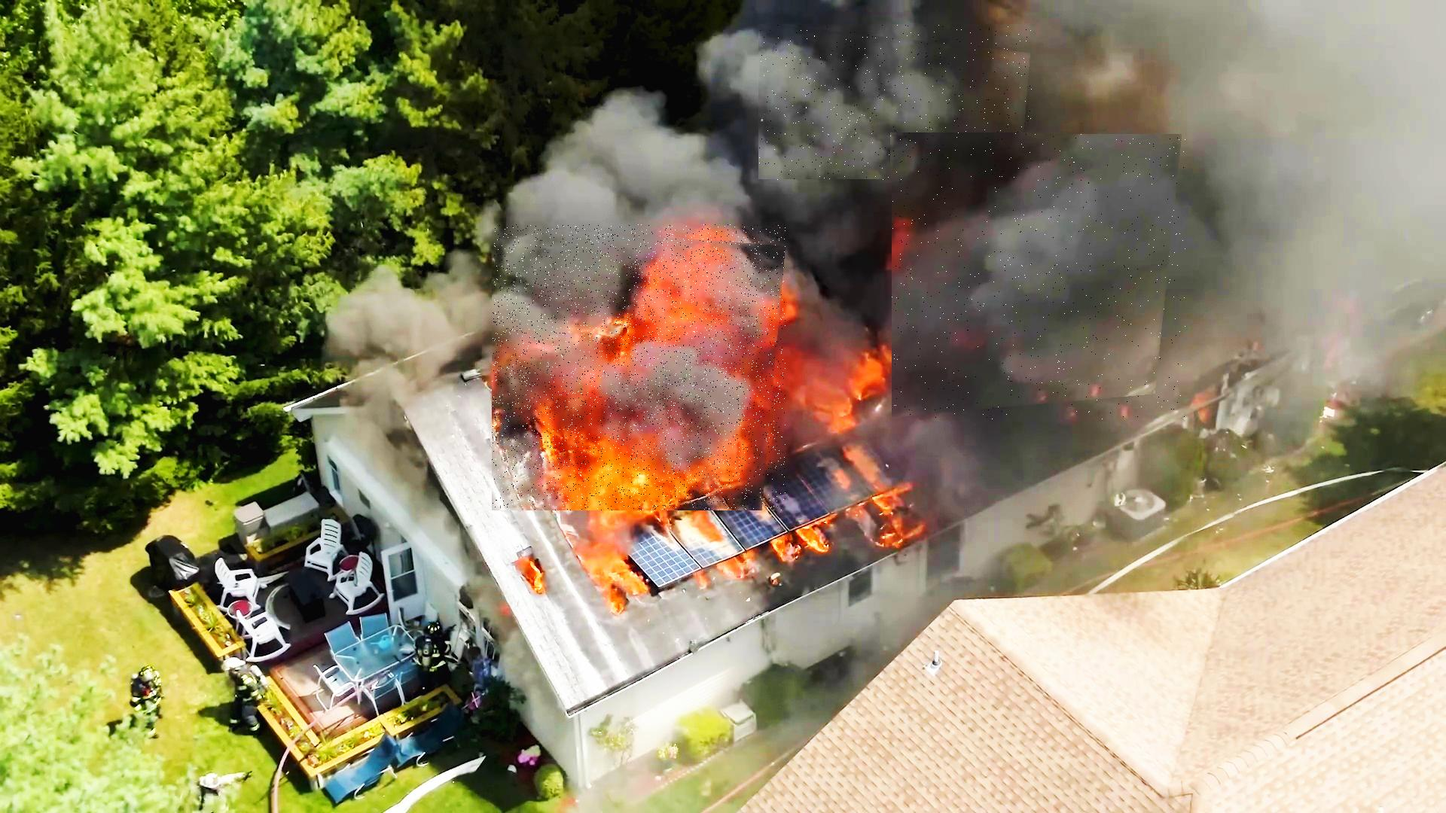fire: (492, 224, 786, 511)
smoke: (892, 134, 1187, 420), (759, 25, 1032, 181)
